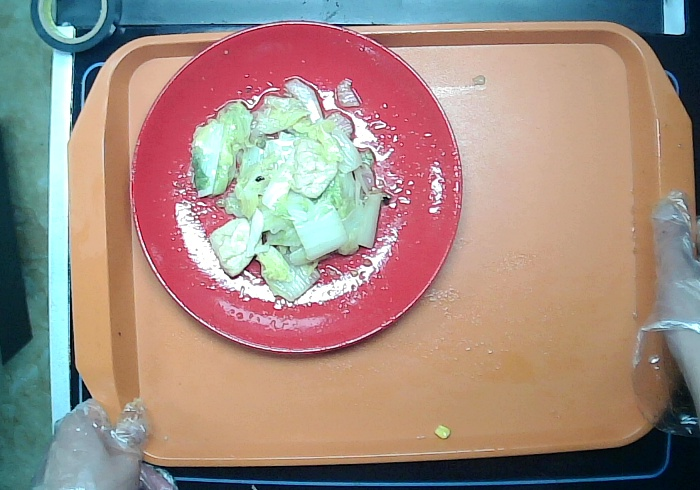HZYJPL-Hong_Se_Yuan_Pan: (121, 13, 469, 359)
